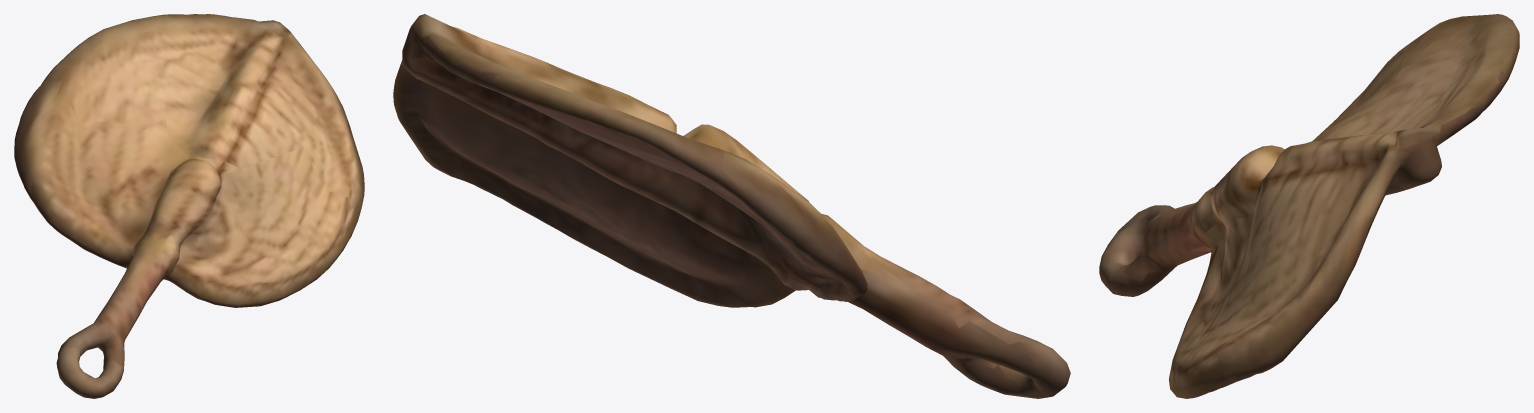
Rendered from v10_peneira.glb.
3 views of the same model, side by side, from view 1: azimuth 30°, elevation 25°; view 2: azimuth 150°, elevation 25°; view 3: azimuth 270°, elevation 25° (orthographic). The views are drawn at different scales.
Visible parts, largest first — view 1: v10_peneira; view 2: v10_peneira; view 3: v10_peneira.
Boxes of the visible parts, x1,y1,x2,y2 form: v10_peneira: (14, 14, 364, 398); v10_peneira: (393, 14, 1070, 398); v10_peneira: (1099, 14, 1519, 398).
Bounding box in the file's own units: 0.5735 × 0.3799 × 0.3922.
Materials: 1 (1 with a texture image).
